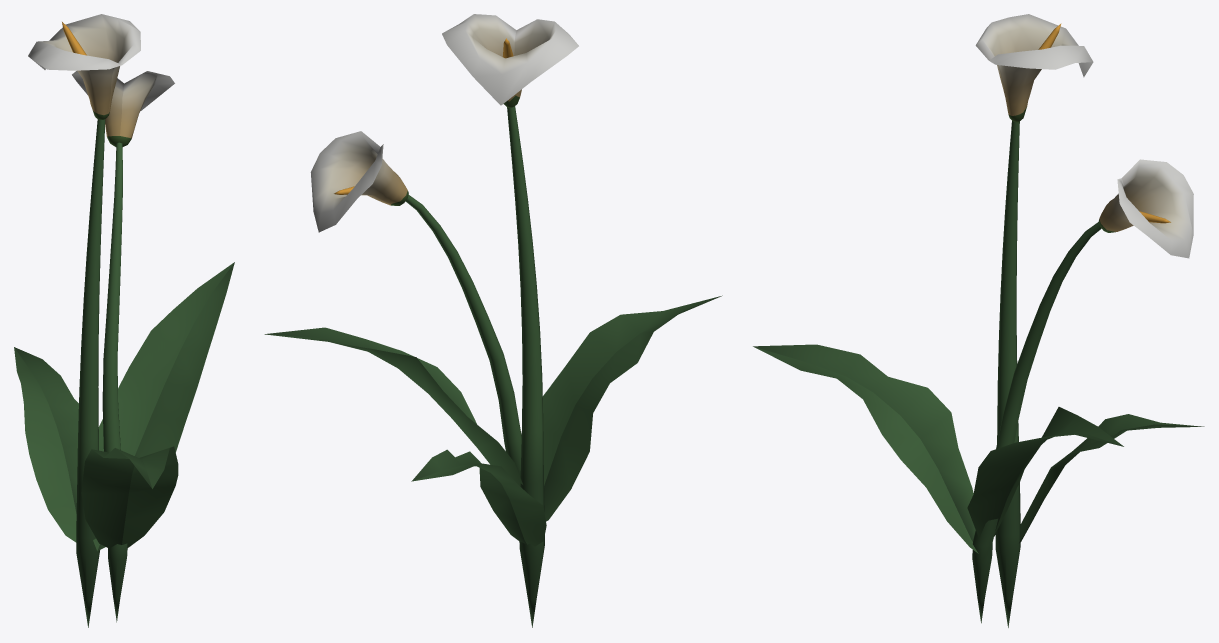
File: plants-flowers-calla-lily_v4.glb
3 renders of one model, left to right at view 1: azimuth 30°, elevation 25°; view 2: azimuth 150°, elevation 25°; view 3: azimuth 270°, elevation 25°, orthographic. The views are drawn at different scales.
Parts seen in each view (by area): view 1: Calla Lily_v4; view 2: Calla Lily_v4; view 3: Calla Lily_v4.
Part boxes in pixels (box(x1,y1,x2,y2)): Calla Lily_v4: box(14, 14, 234, 627); Calla Lily_v4: box(264, 14, 722, 627); Calla Lily_v4: box(753, 14, 1204, 627).
Size of the model in its own units: 0.2809 by 0.6 by 0.4063.
